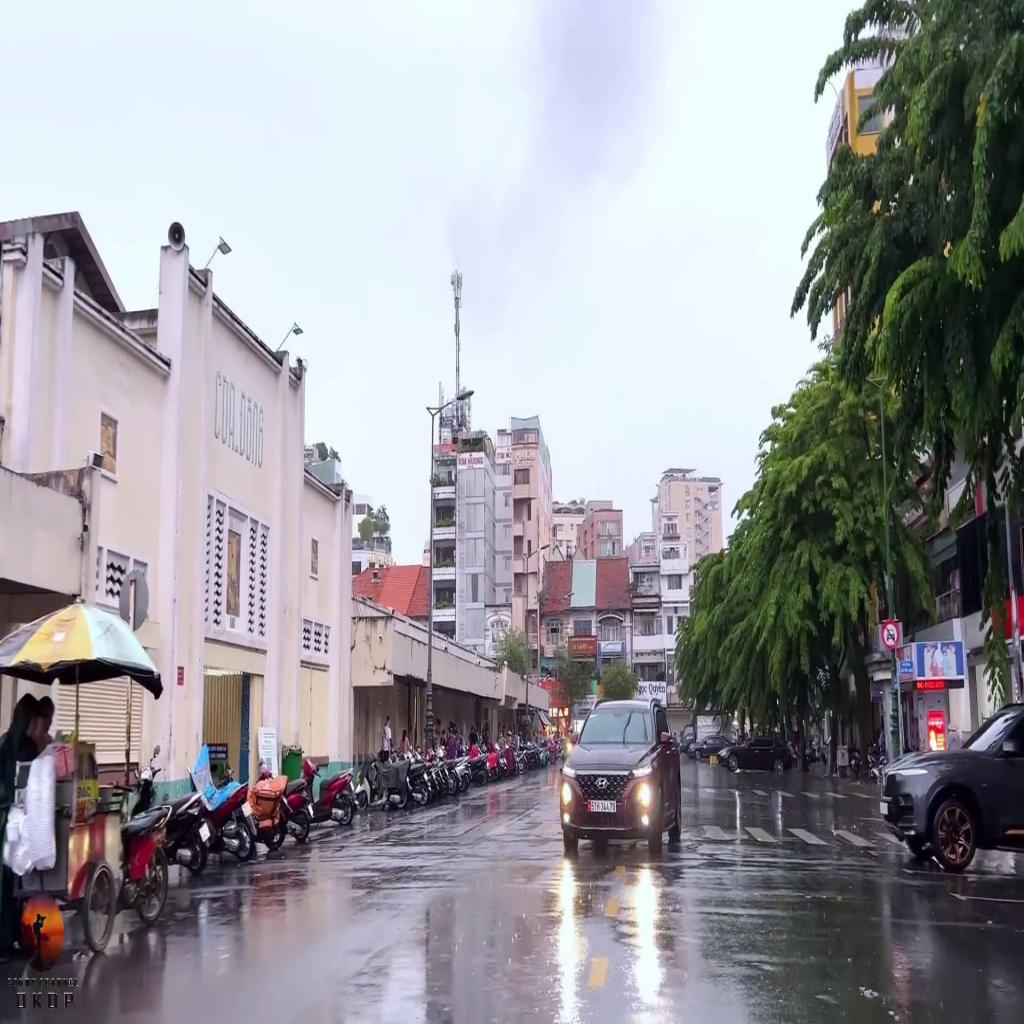cam_o_to: (881, 620, 900, 650)
